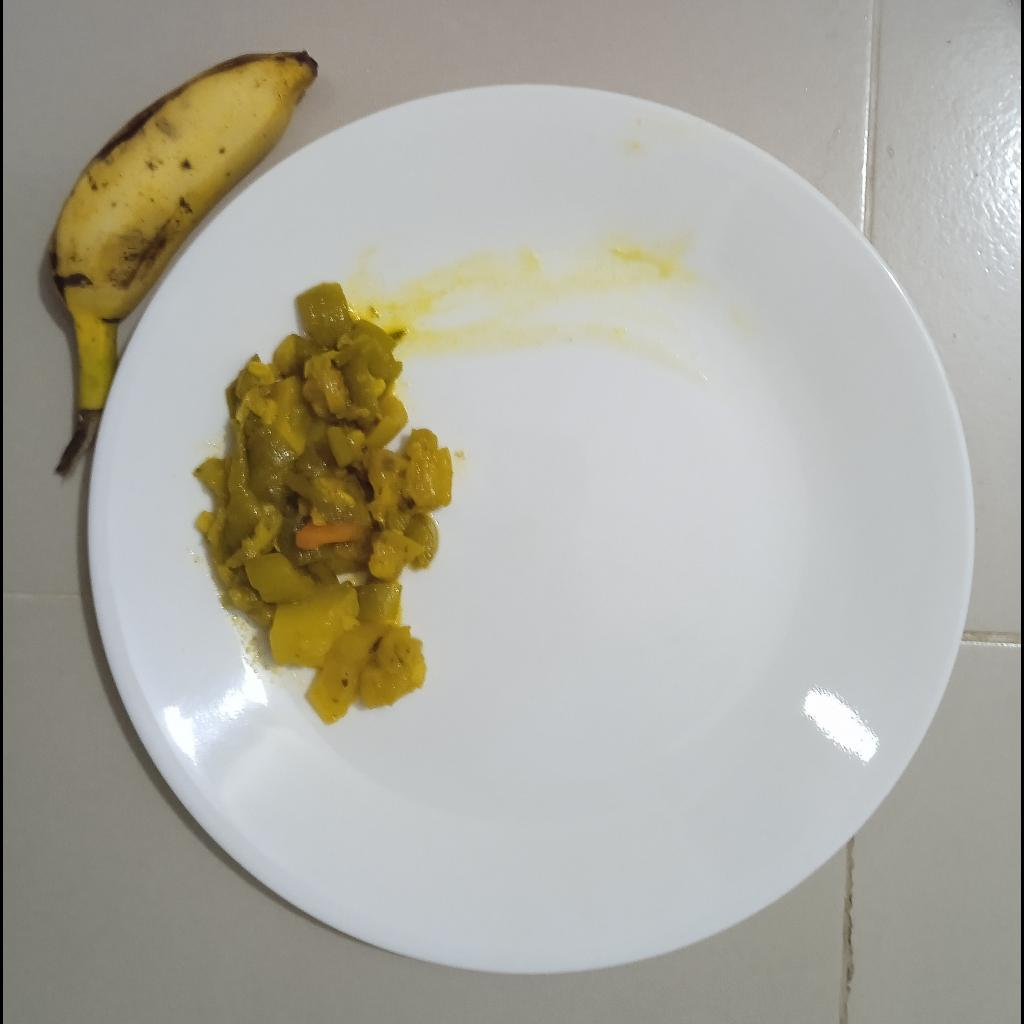banana: (44, 47, 313, 419)
dundol: (188, 278, 457, 725)
